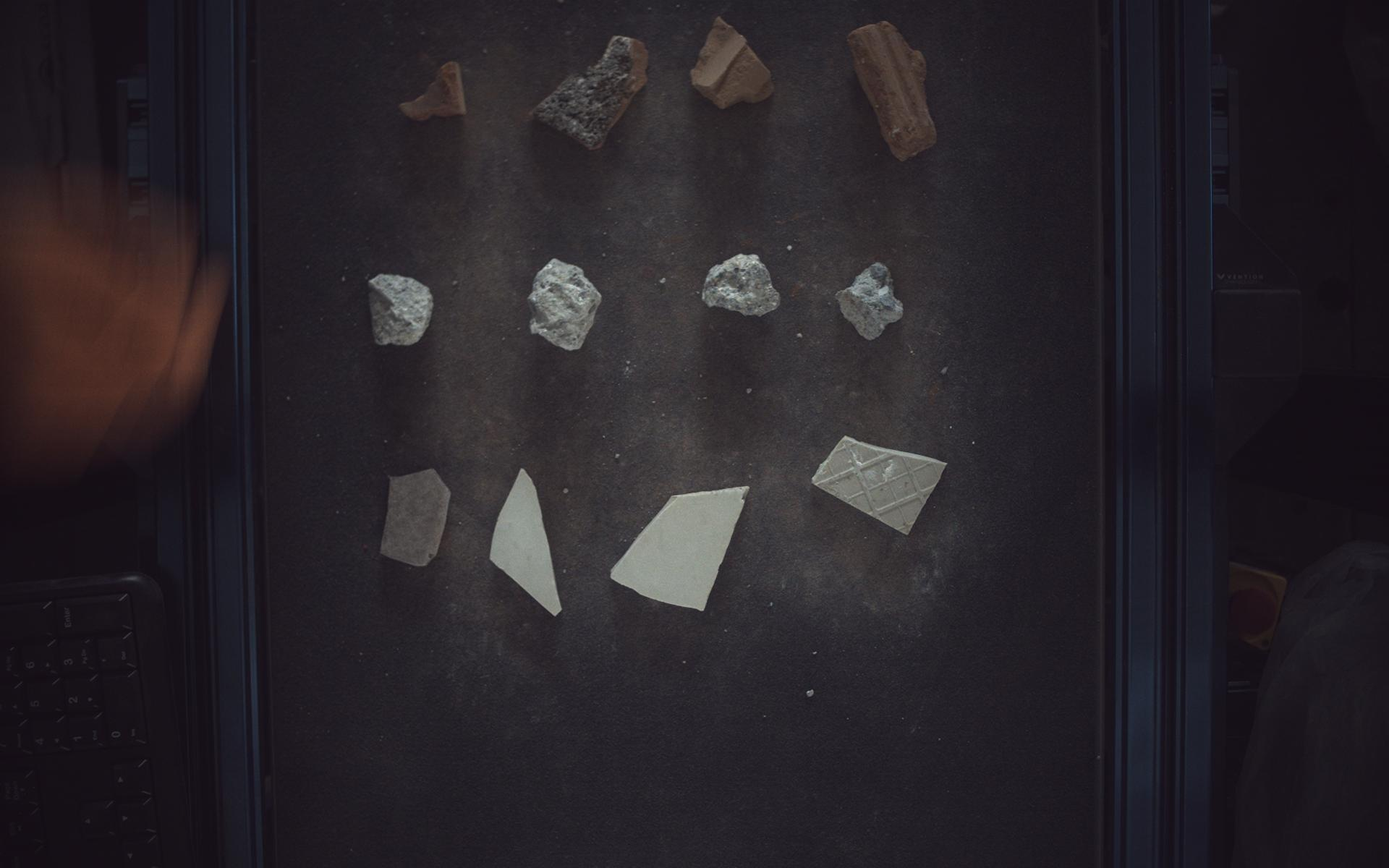brick: (532, 35, 649, 149), (849, 20, 938, 160), (692, 15, 776, 108), (399, 60, 467, 120)
concrete: (529, 258, 602, 350), (838, 262, 905, 340), (702, 254, 781, 315), (368, 273, 433, 346)
tile: (611, 487, 749, 612), (814, 437, 949, 534), (490, 469, 562, 616), (380, 469, 450, 567)
